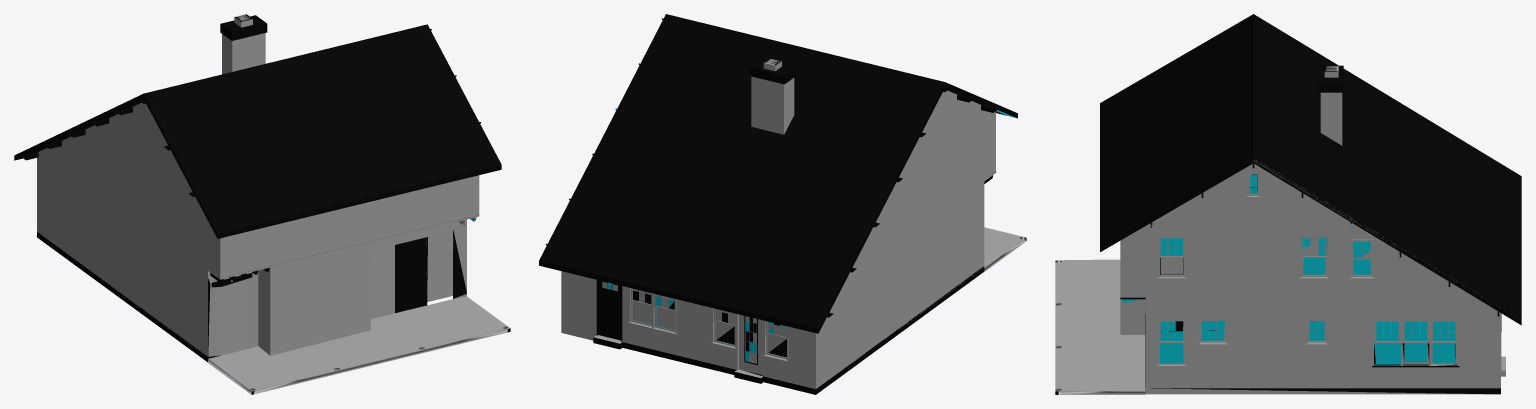
File: Single_house.fbx
3 views of the same model, side by side, from view 1: azimuth 30°, elevation 25°; view 2: azimuth 150°, elevation 25°; view 3: azimuth 270°, elevation 25° (orthographic). The views are drawn at different scales.
Visible parts, largest first — view 1: Single_house; view 2: Single_house; view 3: Single_house.
Boxes of the visible parts, x1,y1,x2,y2 form: Single_house: [14, 14, 510, 394]; Single_house: [539, 14, 1026, 394]; Single_house: [1055, 14, 1521, 394].
Size of the model in its own units: 1067 by 868 by 1419.
